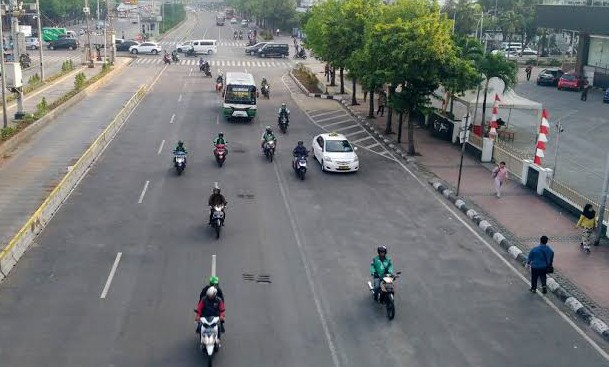car: (312, 132, 357, 176), (225, 70, 257, 123), (260, 40, 290, 59), (130, 40, 162, 56), (537, 67, 562, 87), (559, 70, 582, 90), (188, 40, 217, 52), (49, 38, 78, 49), (246, 42, 268, 55), (116, 40, 141, 51), (178, 41, 193, 52)
motorbike: (196, 278, 227, 361), (371, 246, 397, 323), (206, 190, 226, 241), (294, 142, 308, 182), (260, 127, 276, 161), (214, 132, 229, 168), (175, 141, 188, 176), (277, 106, 290, 134), (261, 78, 269, 100), (203, 61, 212, 78), (216, 73, 223, 92), (163, 50, 172, 63), (173, 50, 179, 62)
